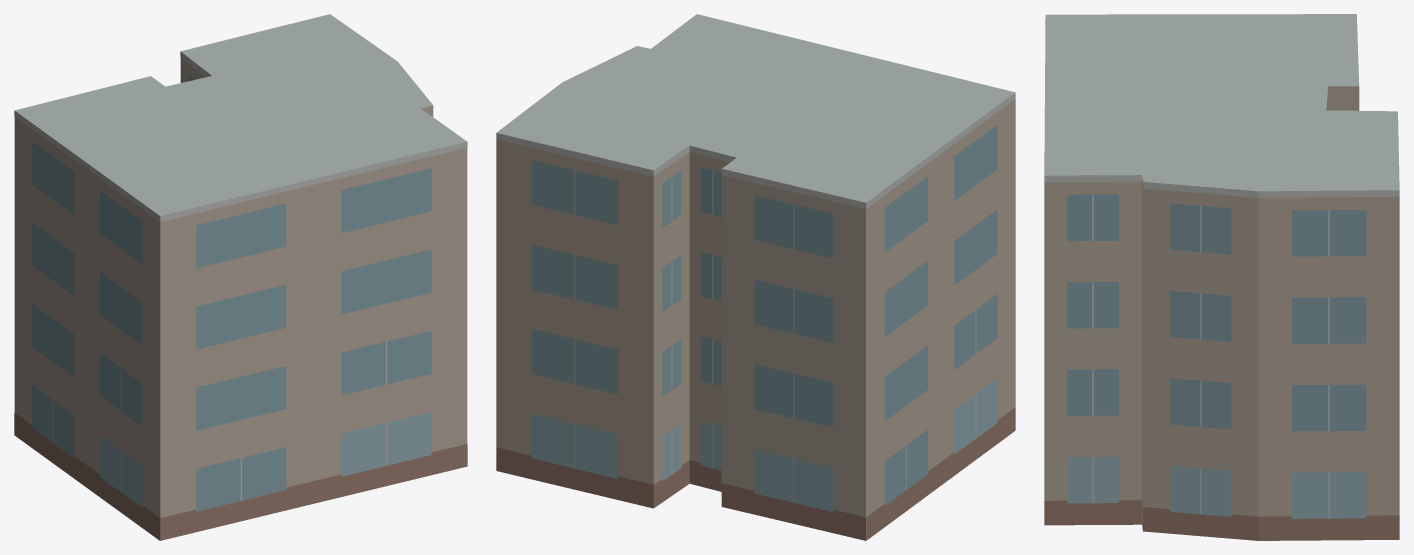
Rendered from survey-upis-32815142.glb.
3 views of the same model, side by side, from view 1: azimuth 30°, elevation 25°; view 2: azimuth 150°, elevation 25°; view 3: azimuth 270°, elevation 25° (orthographic). The views are drawn at different scales.
Visible parts, largest first — view 1: survey-upis-32815142.tmp; view 2: survey-upis-32815142.tmp; view 3: survey-upis-32815142.tmp.
Part boxes in pixels (x1,y1,x2,y2): survey-upis-32815142.tmp: (14,14,467,540); survey-upis-32815142.tmp: (496,14,1015,540); survey-upis-32815142.tmp: (1044,14,1399,540).
Bounding box in the file's own units: 14.15 × 13 × 11.99.
